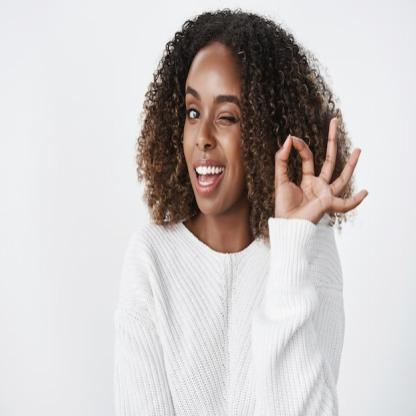ok: (274, 110, 370, 227)
